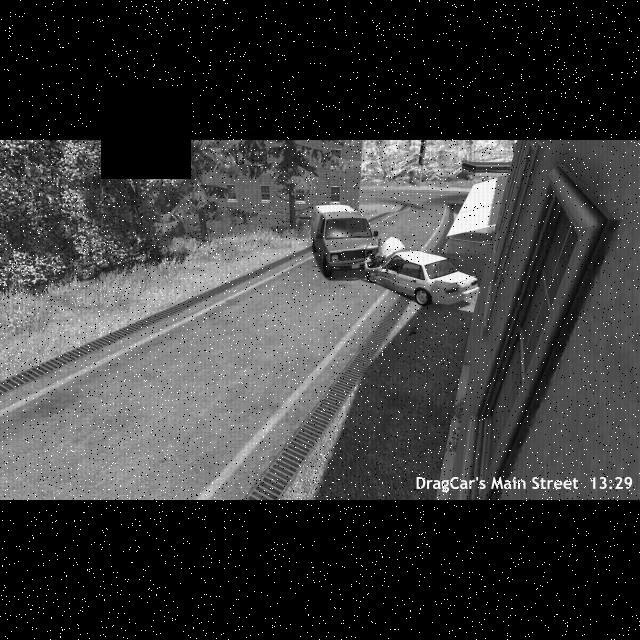moderate: (306, 198, 484, 308)
